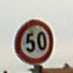limite 50: (14, 18, 53, 63)
